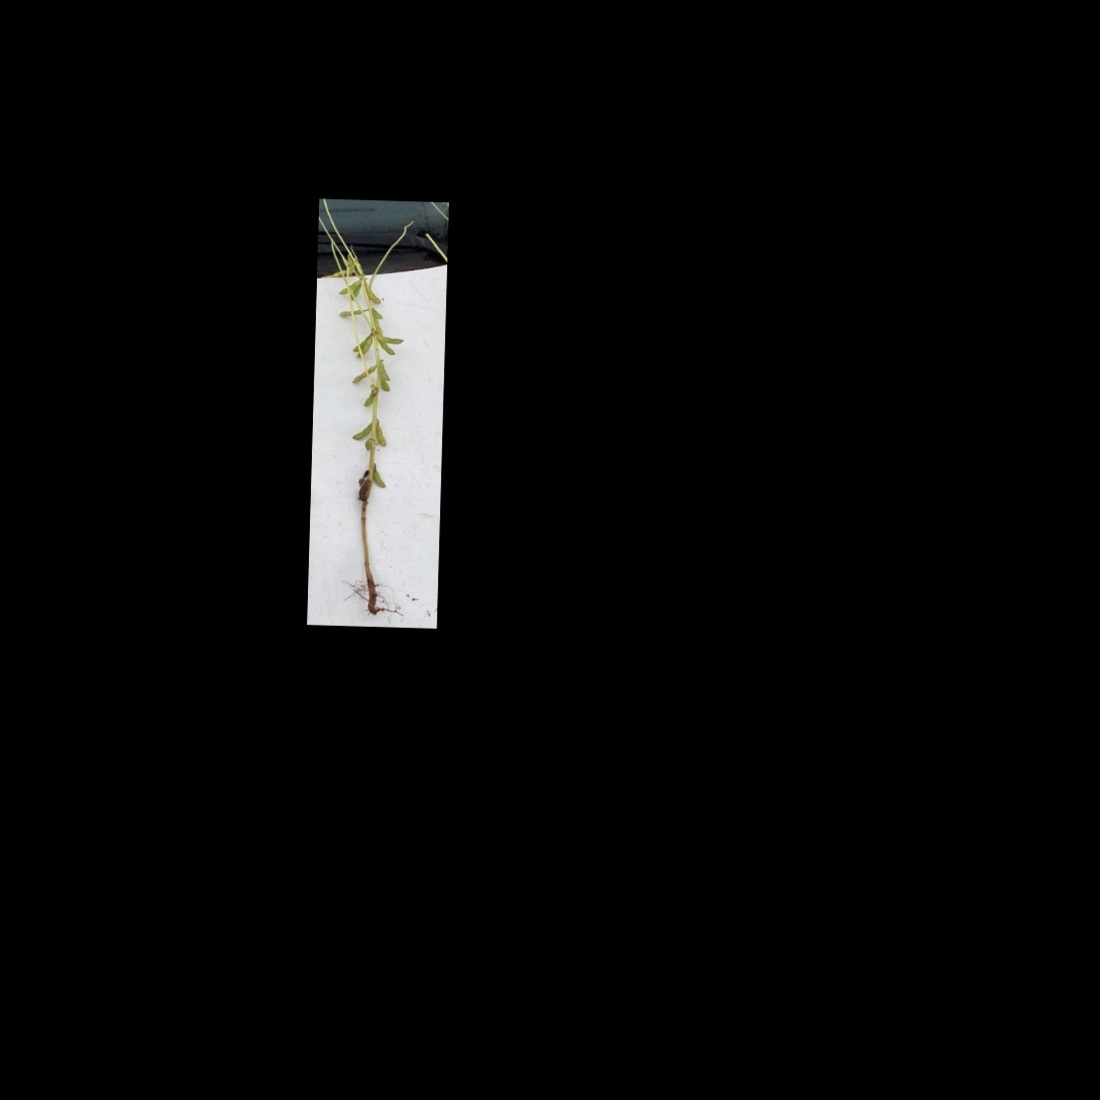pod: (350, 363, 379, 386), (363, 280, 383, 306), (355, 333, 374, 361), (350, 419, 372, 441), (338, 275, 361, 296), (374, 419, 388, 450), (376, 336, 397, 356), (370, 466, 387, 490), (377, 362, 393, 383)
soy: (326, 226, 411, 615)
